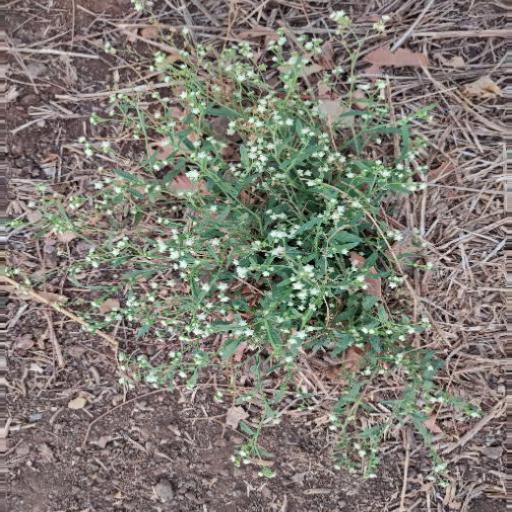weed: (96, 8, 491, 483)
